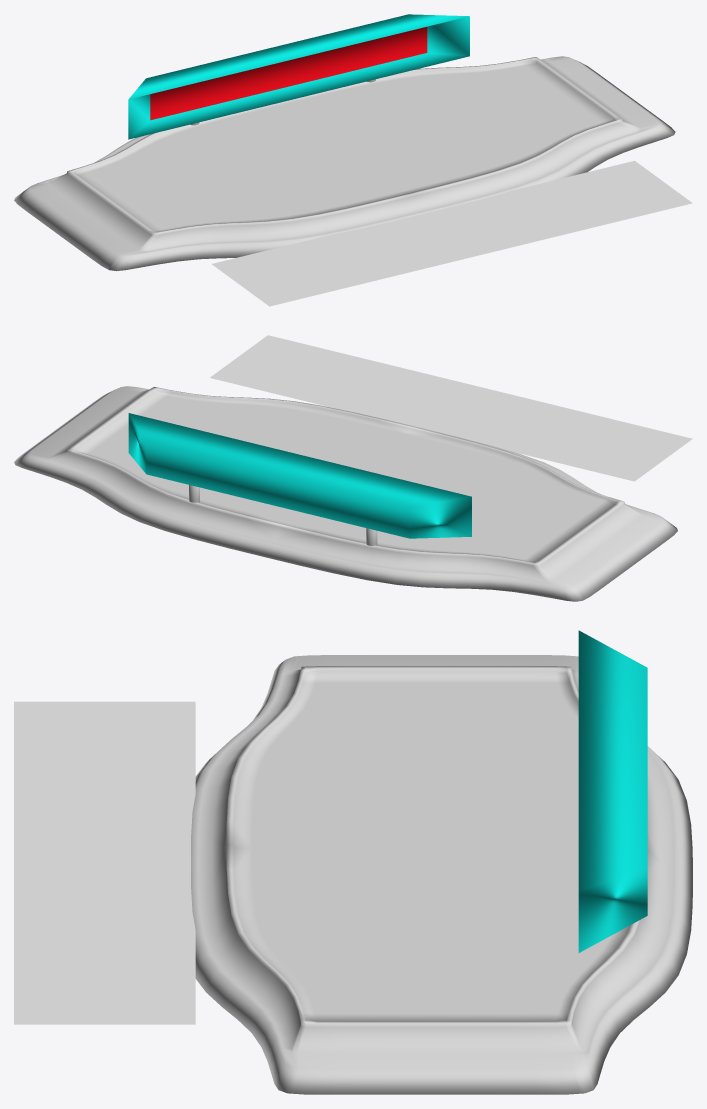
The model's file is ToolPanel.fbx.
3 renders of one model, top to bottom at view 1: azimuth 30°, elevation 25°; view 2: azimuth 150°, elevation 25°; view 3: azimuth 270°, elevation 25°, orthographic. The views are drawn at different scales.
Visible parts, largest first — view 1: Cube, Plane, Cube.001; view 2: Cube, Plane, Cube.001; view 3: Cube, Plane, Cube.001.
Part boxes in pixels (left/top/right/bottom): Cube: left=14, top=56, right=675, bottom=271; Plane: left=212, top=160, right=692, bottom=306; Cube.001: left=128, top=14, right=469, bottom=139; Cube: left=14, top=386, right=677, bottom=601; Plane: left=210, top=335, right=692, bottom=481; Cube.001: left=128, top=413, right=471, bottom=538; Cube: left=191, top=655, right=692, bottom=1094; Plane: left=14, top=701, right=195, bottom=1024; Cube.001: left=578, top=630, right=647, bottom=952.
Bounding box in the file's own units: 419 × 52.7 × 277.
